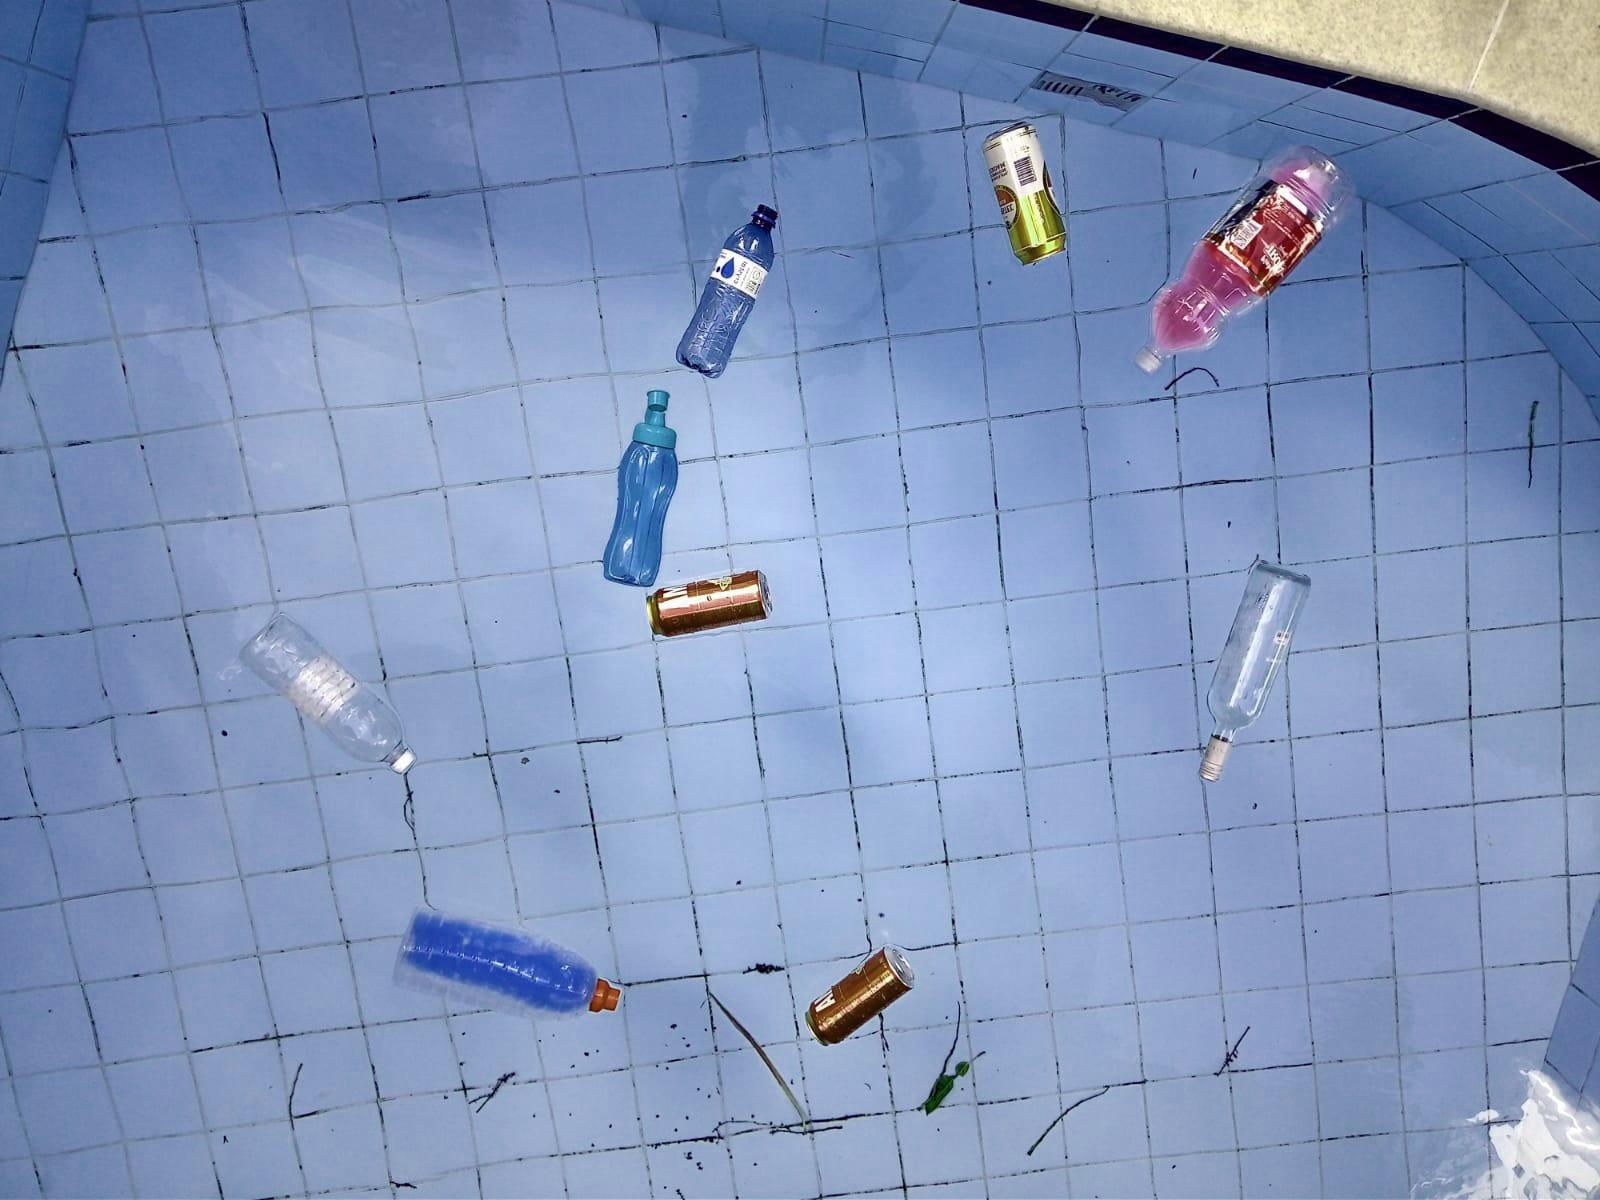Metal: (1151, 511, 1354, 807), (911, 87, 1117, 324), (758, 906, 974, 1087)
Plastic: (1135, 140, 1391, 389), (218, 600, 447, 800), (625, 176, 838, 379), (372, 904, 640, 1036), (562, 410, 731, 587)
